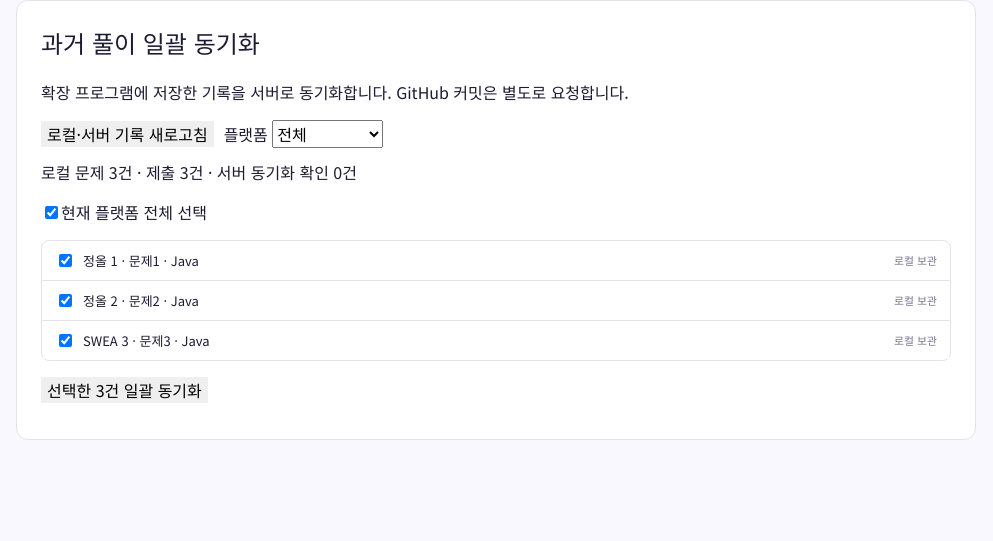
Scenario: ACKs partial success, continues to other platforms, retains failed selection for retry
The width and height of the screenshot is (993, 541).
Click the button "선택한 3건 일괄 동기화": (124, 390) [41,377,208,403]
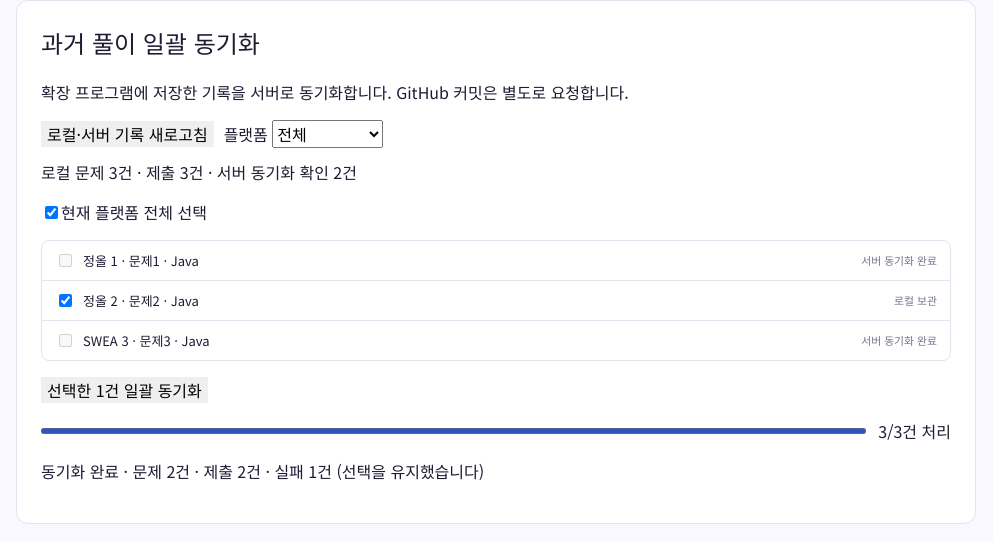
Result: the text "동기화 완료 · 문제 2건 · 제출 2건 · 실패 1건 (선택을 유지했습니다)" is shown at [41,459,484,483]
Result: the button "선택한 1건 일괄 동기화" is shown at [41,377,208,403]
